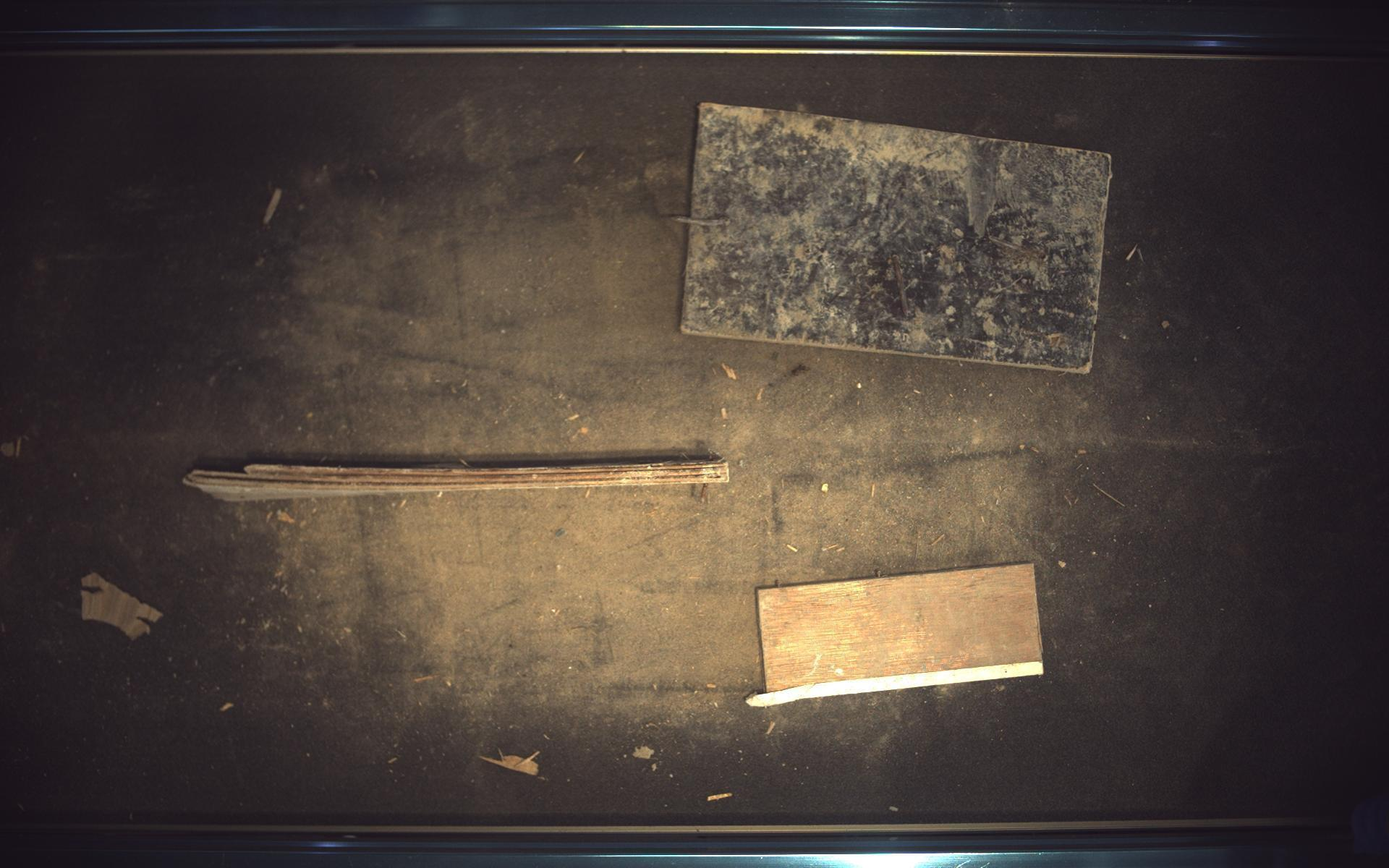wood: (676, 102, 1113, 372), (748, 565, 1046, 708), (182, 459, 731, 502)
